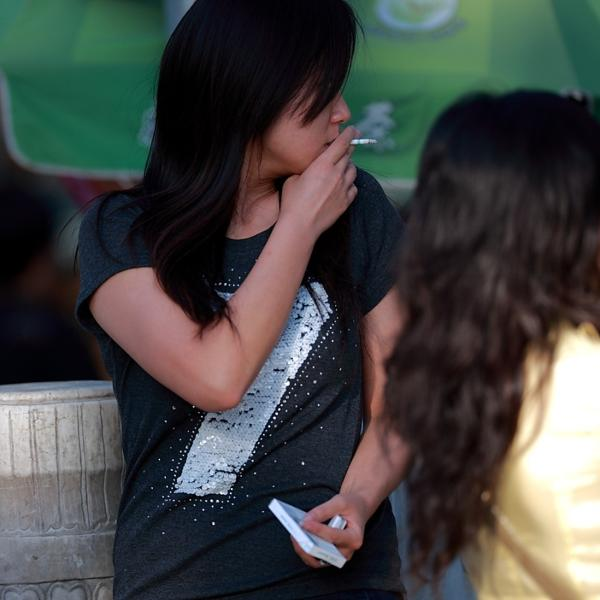person: (75, 3, 420, 600)
